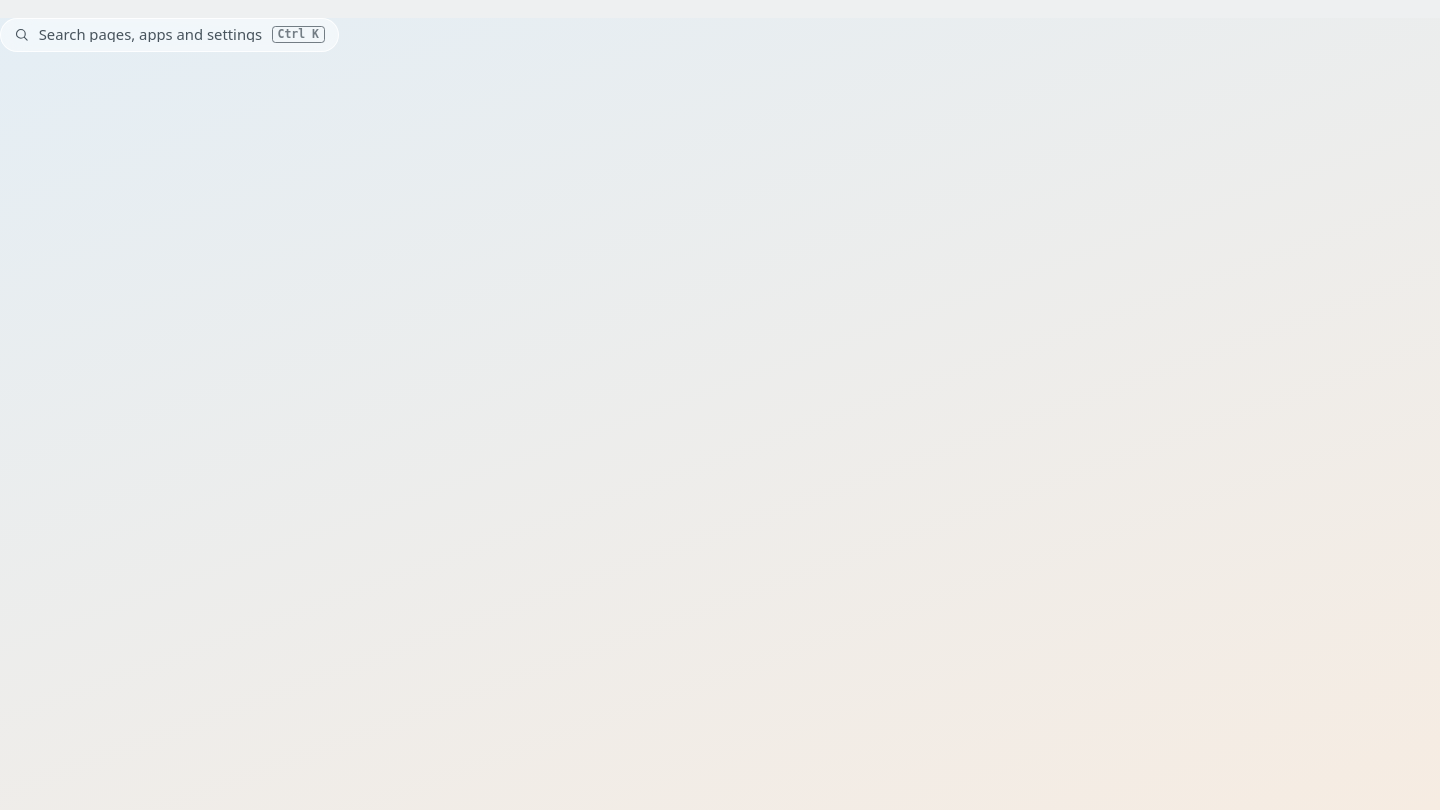
Test: the command bar › opens with Ctrl K, takes the typing, and jumps to a page with Enter
Press k
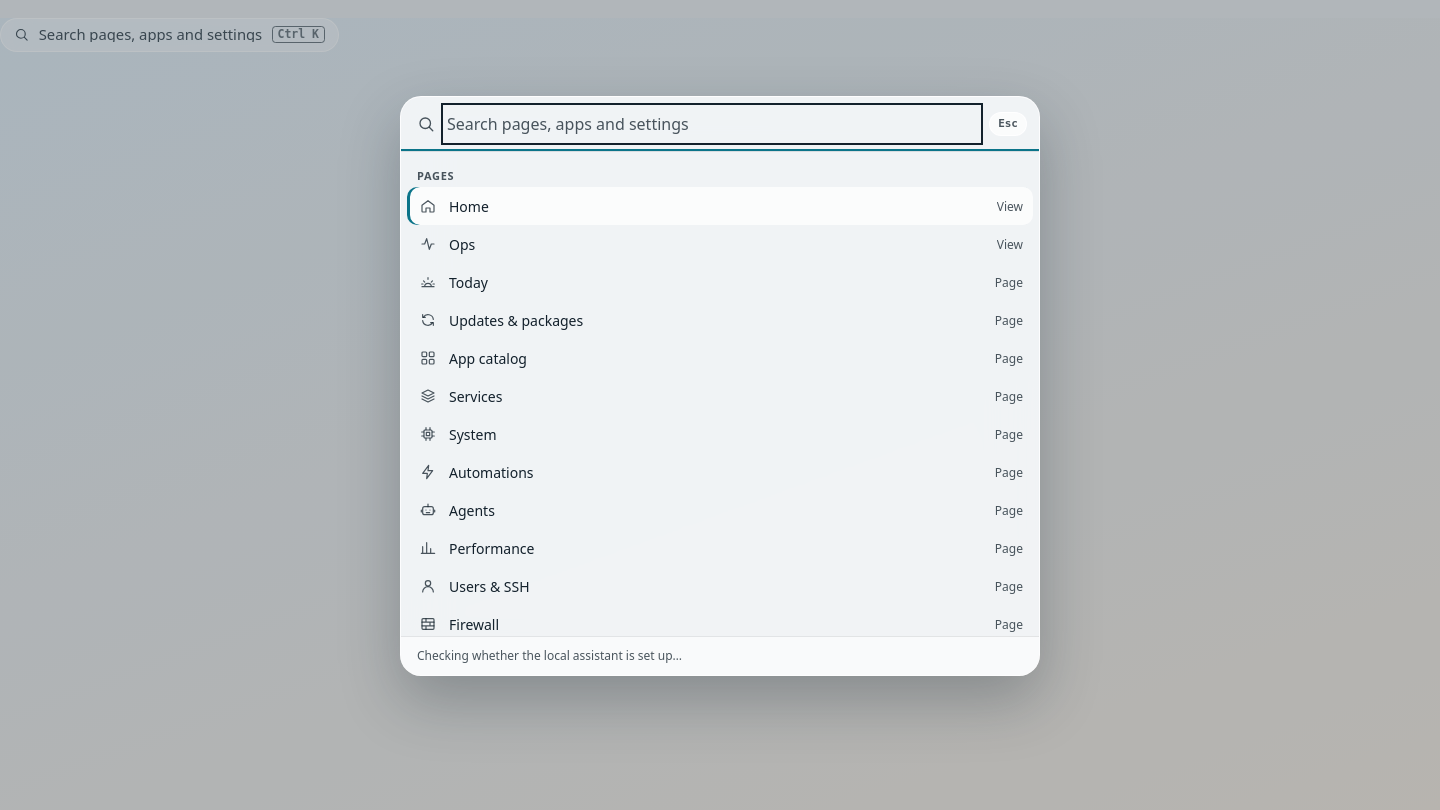
Type "fire" into the dropdown labelled "Search pages, apps and settings" at (712, 124), box [445,107,979,141]
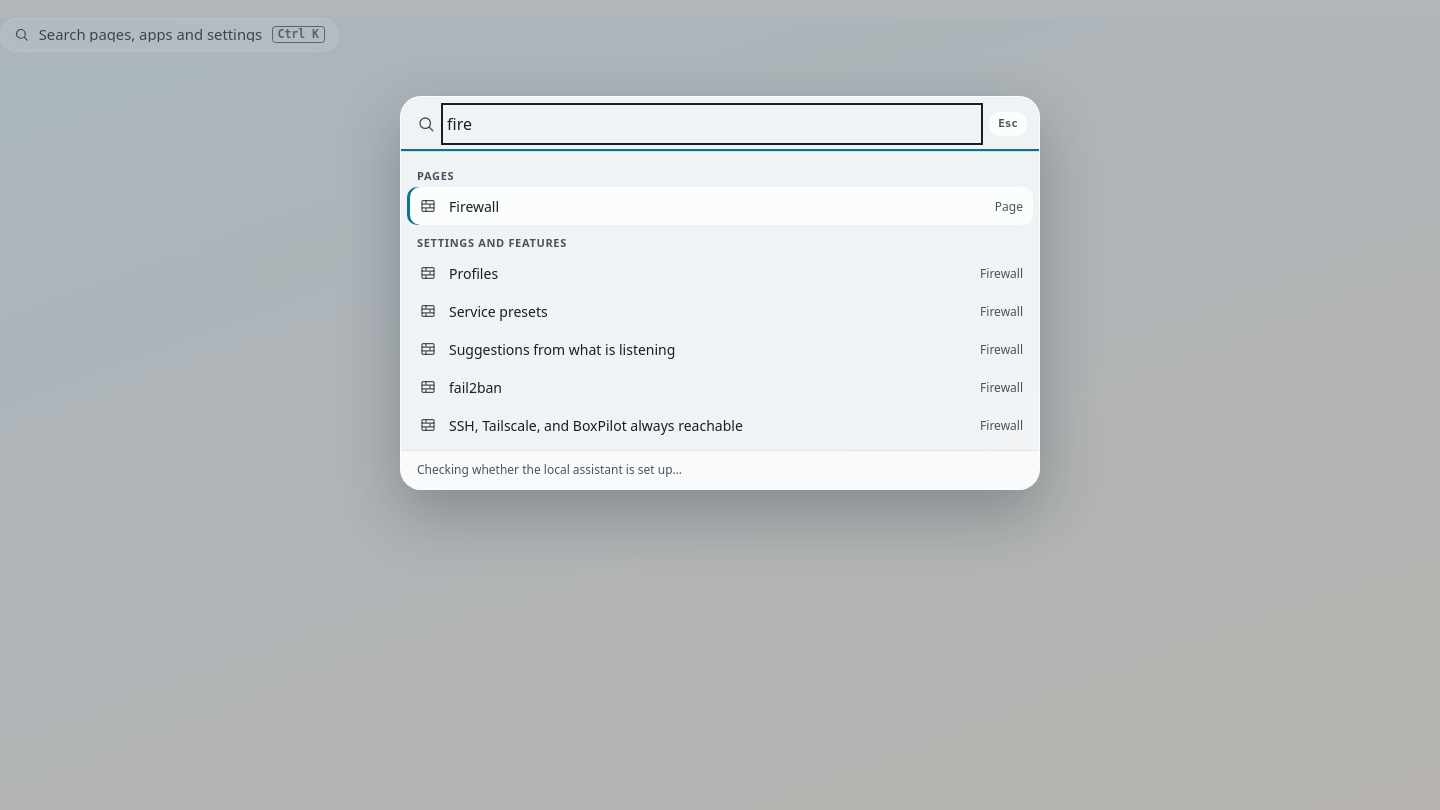
Expected: the option "Firewall Page" is shown, [407,187,1033,225]
Press Enter in the dropdown named "Search pages, apps and settings", box [445,107,979,141]
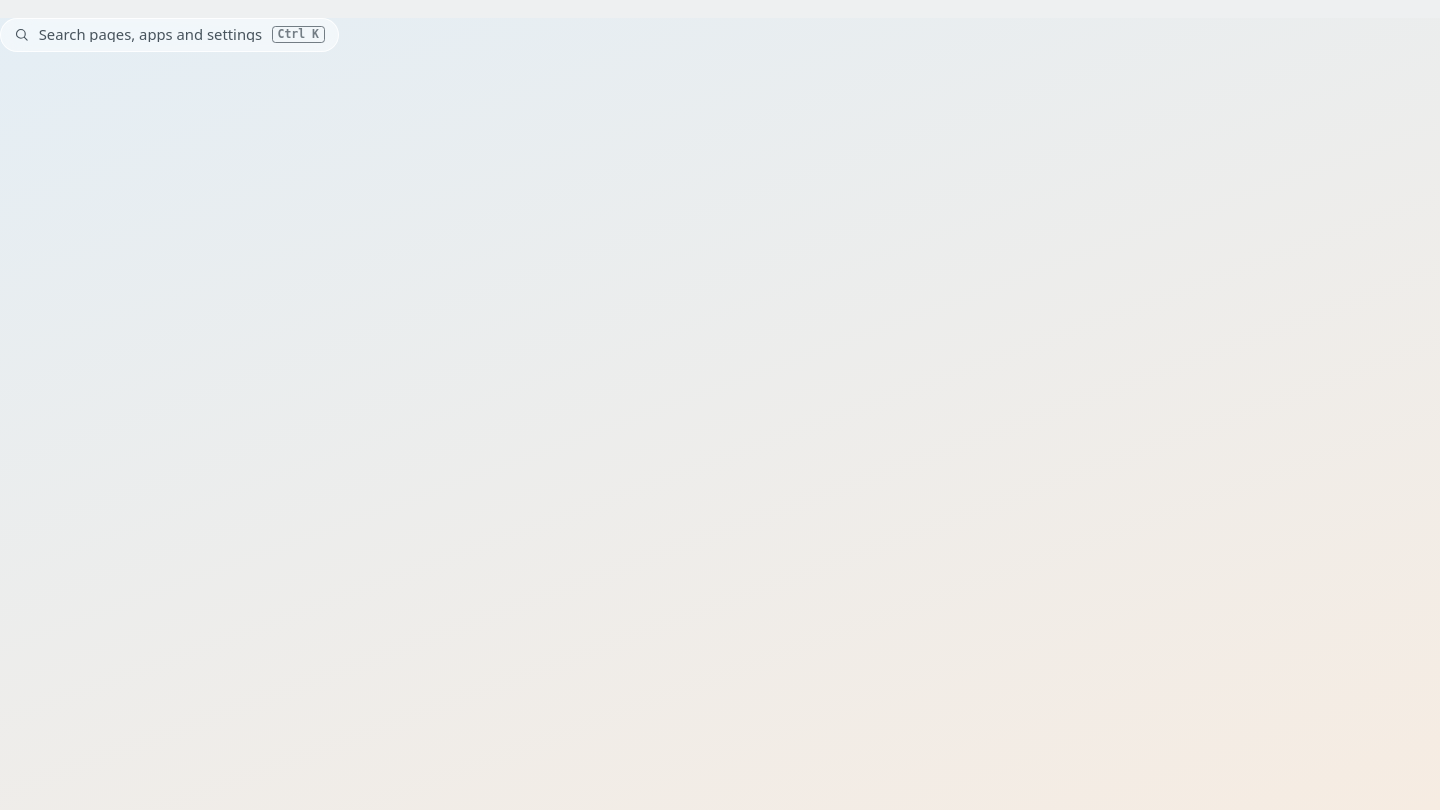
Expected: the dialog is gone
